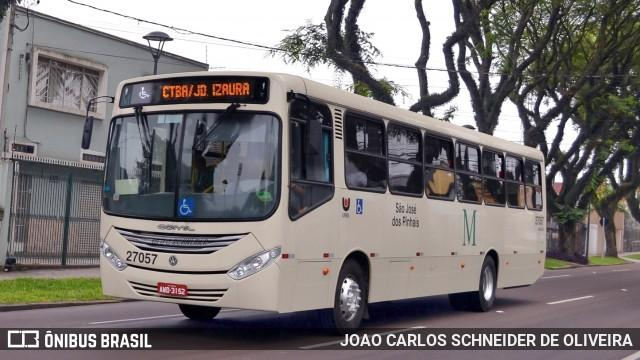CTBA JD IZAURA: (160, 80, 253, 102)
